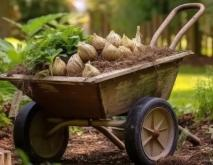BROUETTE: (0, 2, 206, 165)
